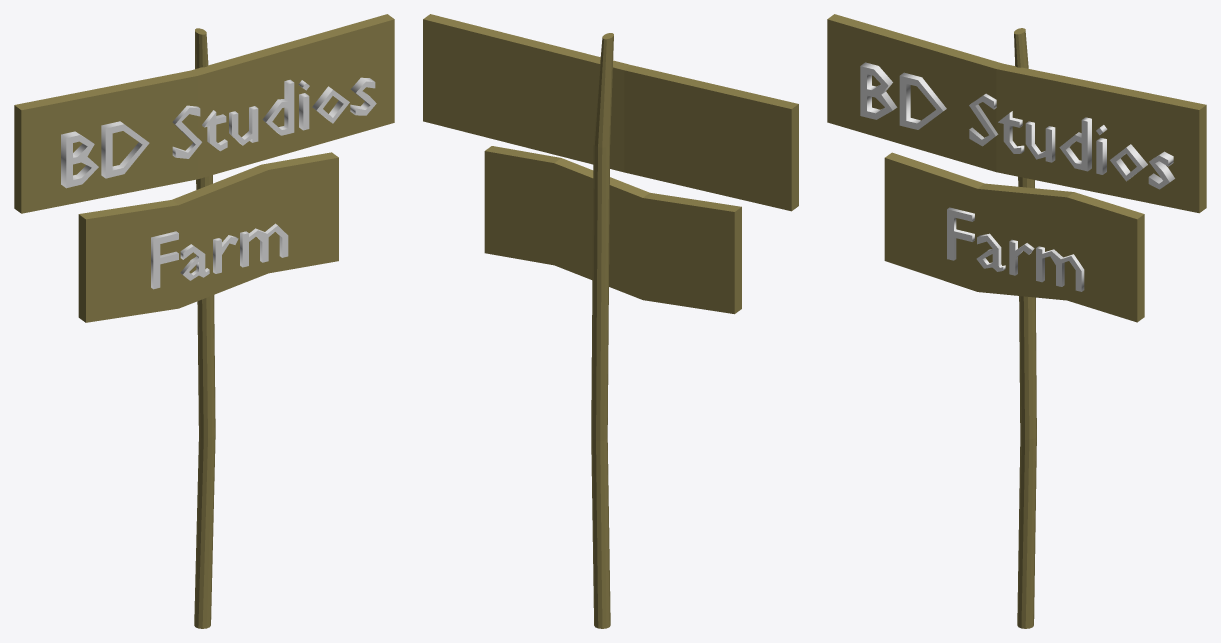
Rendered from signboard01.fbx.
The picture shows the model from 3 angles, left to right: view 1: azimuth 30°, elevation 25°; view 2: azimuth 150°, elevation 25°; view 3: azimuth 330°, elevation 25°; orthographic projection.
Visible parts, largest first — view 1: Circle.002; view 2: Circle.002; view 3: Circle.002.
Boxes of the visible parts, <box> form: Circle.002: <box>14,14,394,628</box>; Circle.002: <box>423,14,798,628</box>; Circle.002: <box>827,14,1206,628</box>.
Bounding box in the file's own units: 0.9057 × 1.38 × 0.0798.
